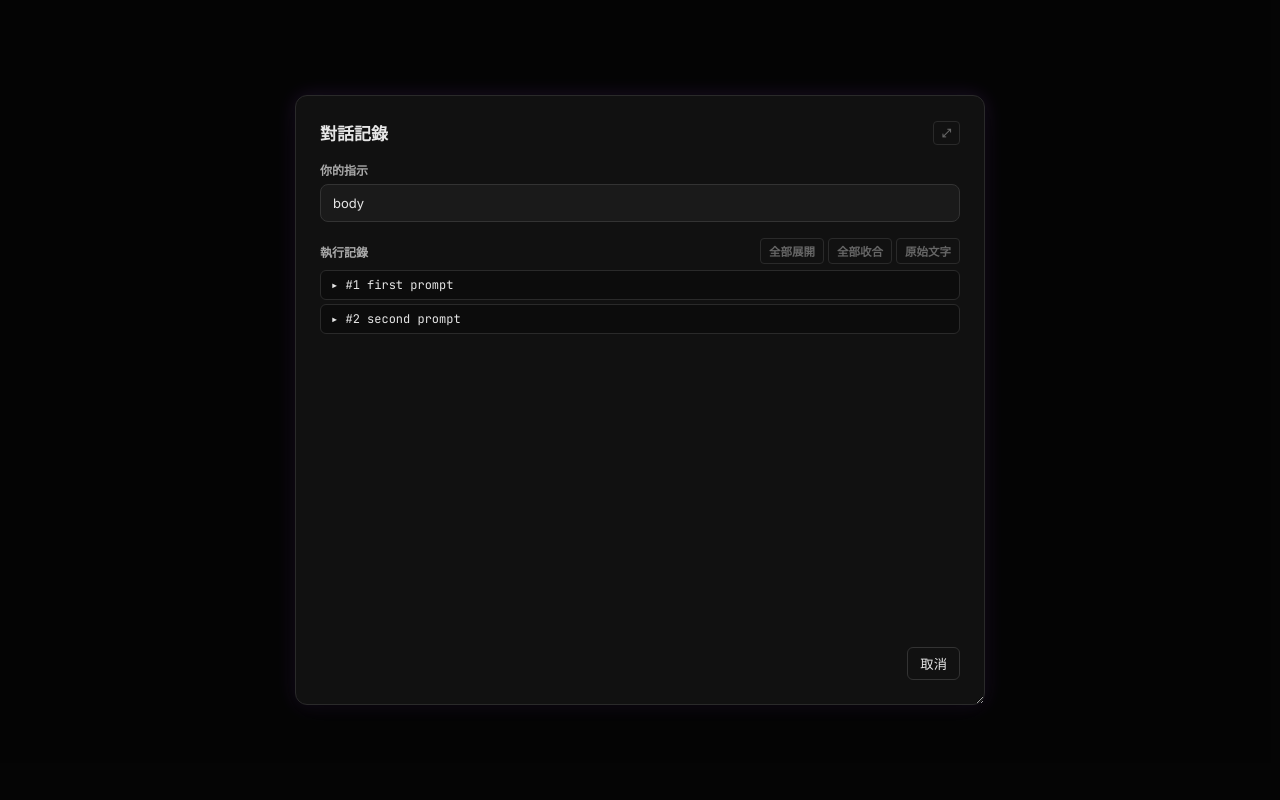
Scenario: TranscriptDialog › expands a single turn on click
Click the button "▸ #1 first prompt".
click(399, 285)  # box [320,270,960,300]
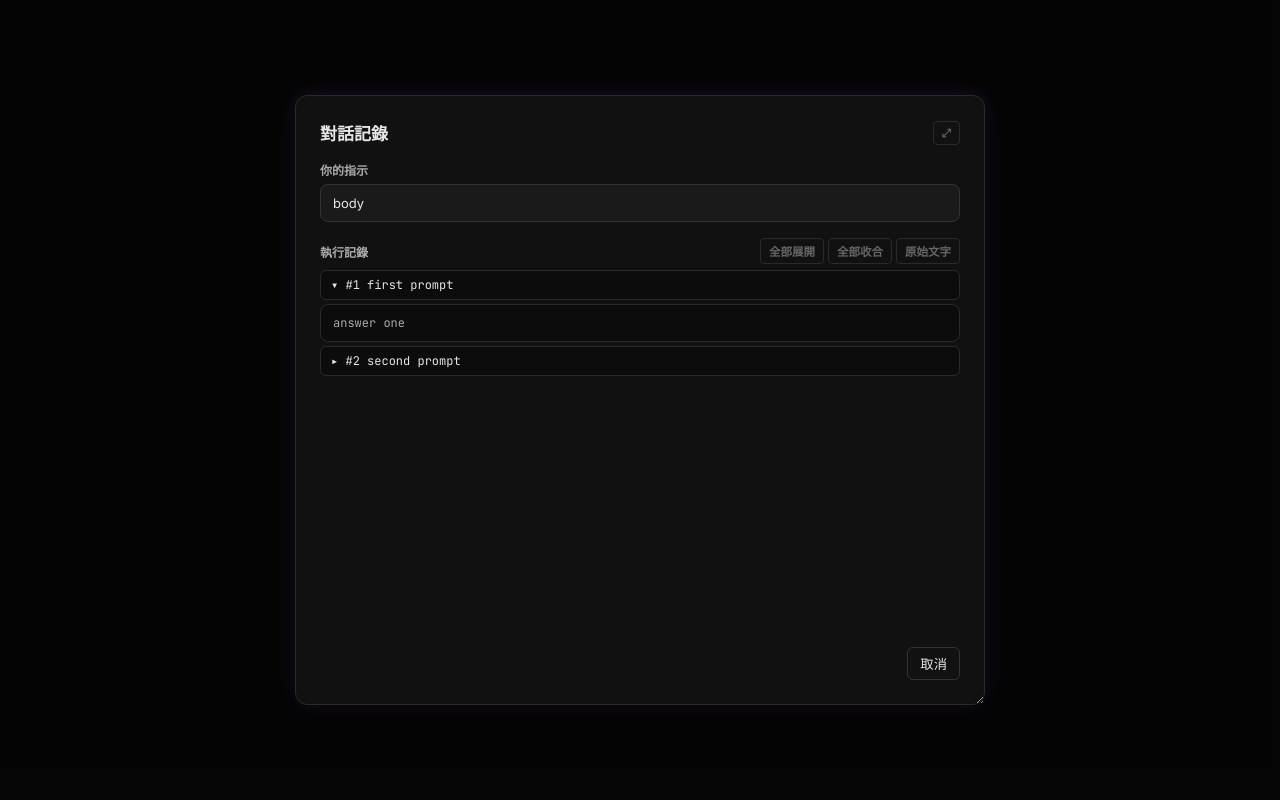
Now the text "answer one" is shown, box [320,304,960,342]
